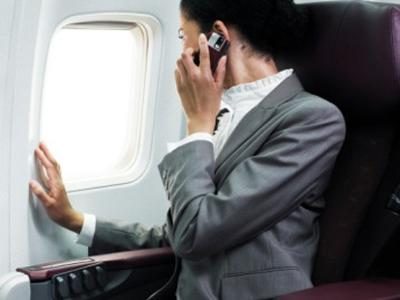person: (29, 3, 346, 300)
